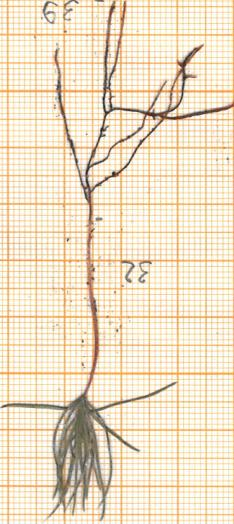flower: (42, 392, 142, 524)
root: (51, 15, 234, 205)
stem: (80, 205, 106, 392)
